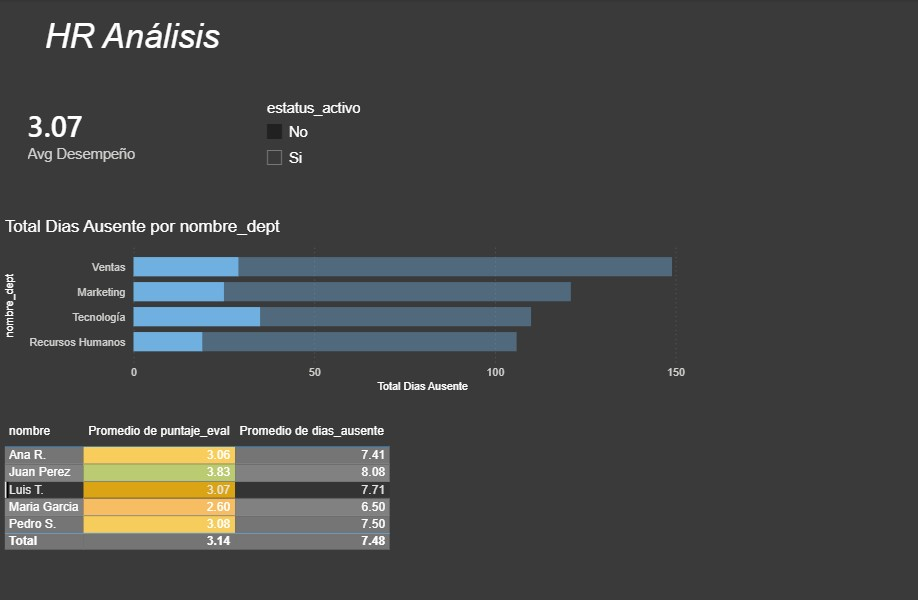

The dashboard page shown, as its layout file describes it:
{"tool":"powerbi","page":{"name":"Página 1","canvas":[1280,720],"ordinal":0},"visuals":[{"type":"cardVisual","fields":{"Data":["proyectohr fact_desempeno.Avg Desempeño"]},"box":[1.4,78.2,279.9,140],"z":0},{"type":"barChart","fields":{"Category":["proyectohr dim_departamentos.nombre_dept"],"Y":["proyectohr fact_desempeno.Total Dias Ausente"]},"box":[1.4,238.8,797.3,197.6],"z":1000},{"type":"tableEx","fields":{"Values":["proyectohr dim_empleados.nombre","Avg(proyectohr fact_desempeno.puntaje_eval)","Avg(proyectohr fact_desempeno.dias_ausente)"]},"box":[0,459.7,469.3,196.2],"z":2000},{"type":"slicer","fields":{"Values":["proyectohr fact_desempeno.estatus_activo"]},"box":[281.3,105.7,163.3,112.5],"z":3000},{"type":"textbox","box":[45.3,15.1,275.8,63.1],"z":3001}]}

Visuals, with their boxes on the page's 1280x720 design canvas (x1, y1, x2, y2). These are canvas units, not pixel positions in the 918x600 screenshot, which may show the page scaled, cropped or inside an application window:
cardVisual - proyectohr fact_desempeno.Avg Desempeño: 1:78:281:218
barChart - proyectohr dim_departamentos.nombre_dept x proyectohr fact_desempeno.Total Dias Ausente: 1:239:799:436
tableEx - proyectohr dim_empleados.nombre x Avg(proyectohr fact_desempeno.puntaje_eval): 0:460:469:656
slicer - proyectohr fact_desempeno.estatus_activo: 281:106:445:218
textbox: 45:15:321:78
